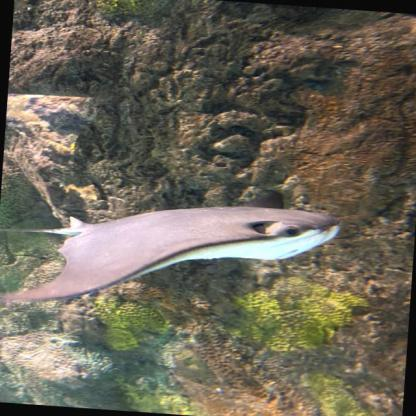stingray: (6, 189, 342, 327)
